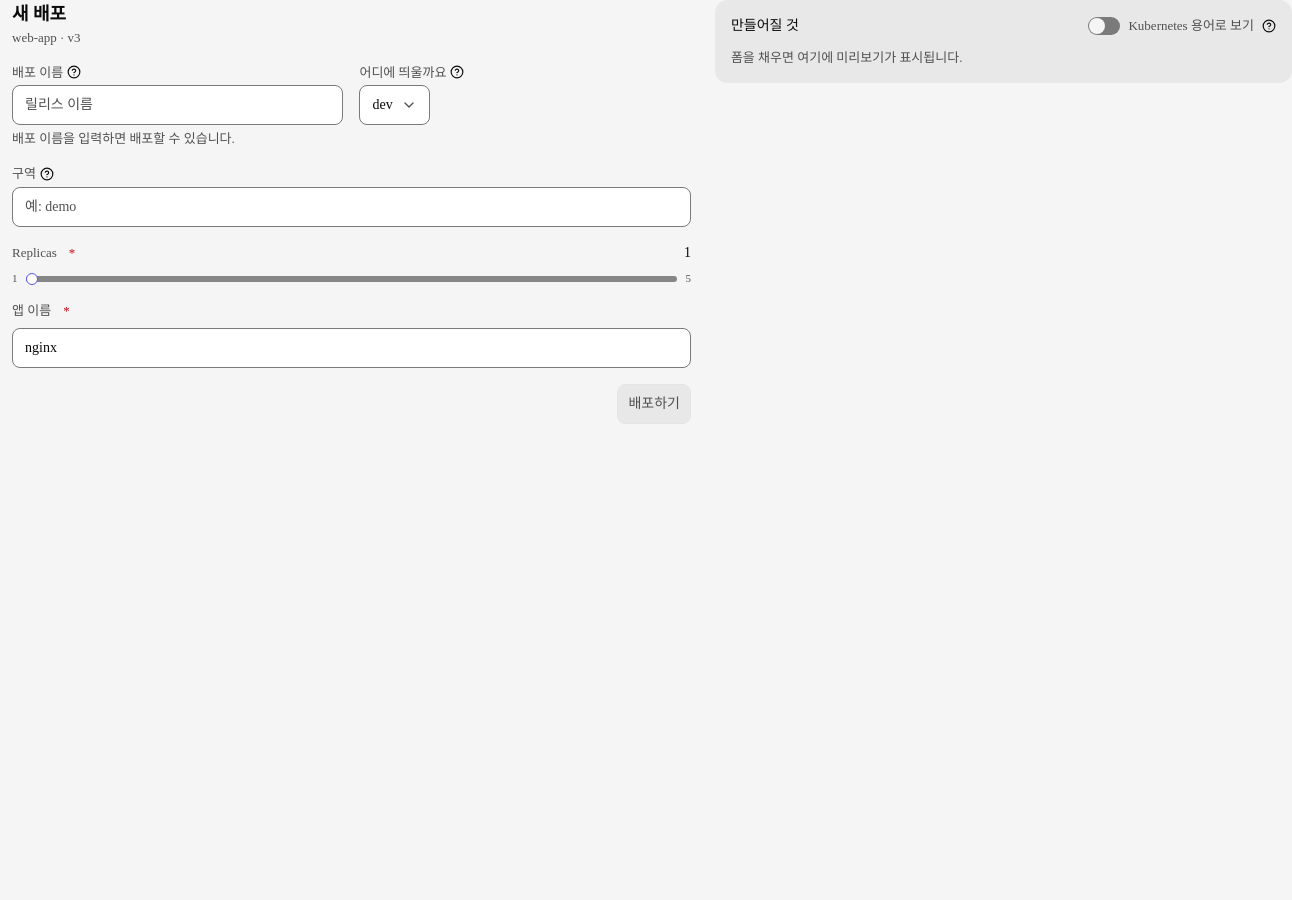
Test case: DeployClient › a cluster that refuses the deploy (#6) › unfolds the apiserver's words at detailed
Type "my-app" into the field labelled "배포 이름" at (178, 105), box x1=12 y1=85 x2=344 y2=125
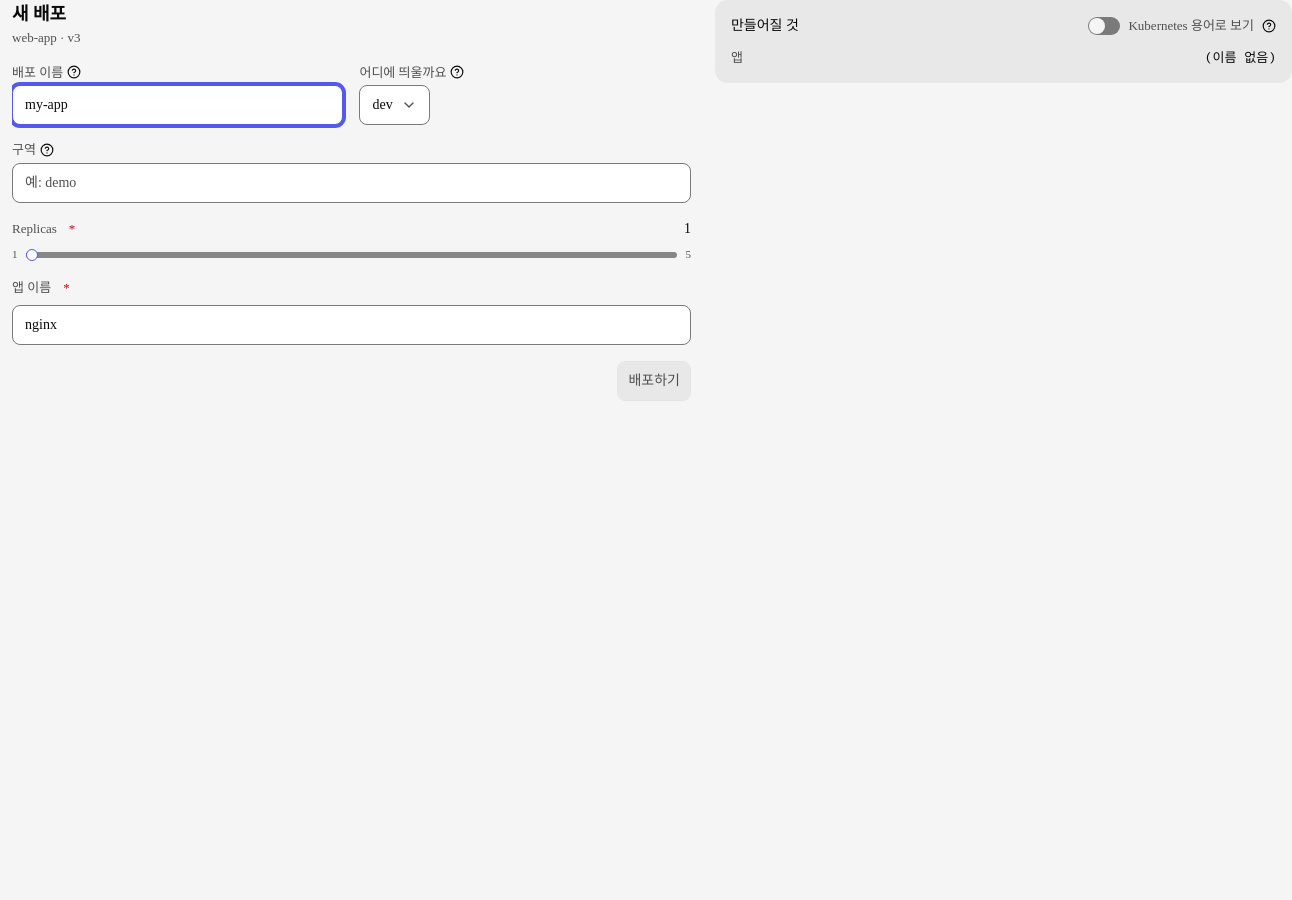
Type "default" into the field labelled "구역" at (351, 183), box x1=12 y1=163 x2=691 y2=203
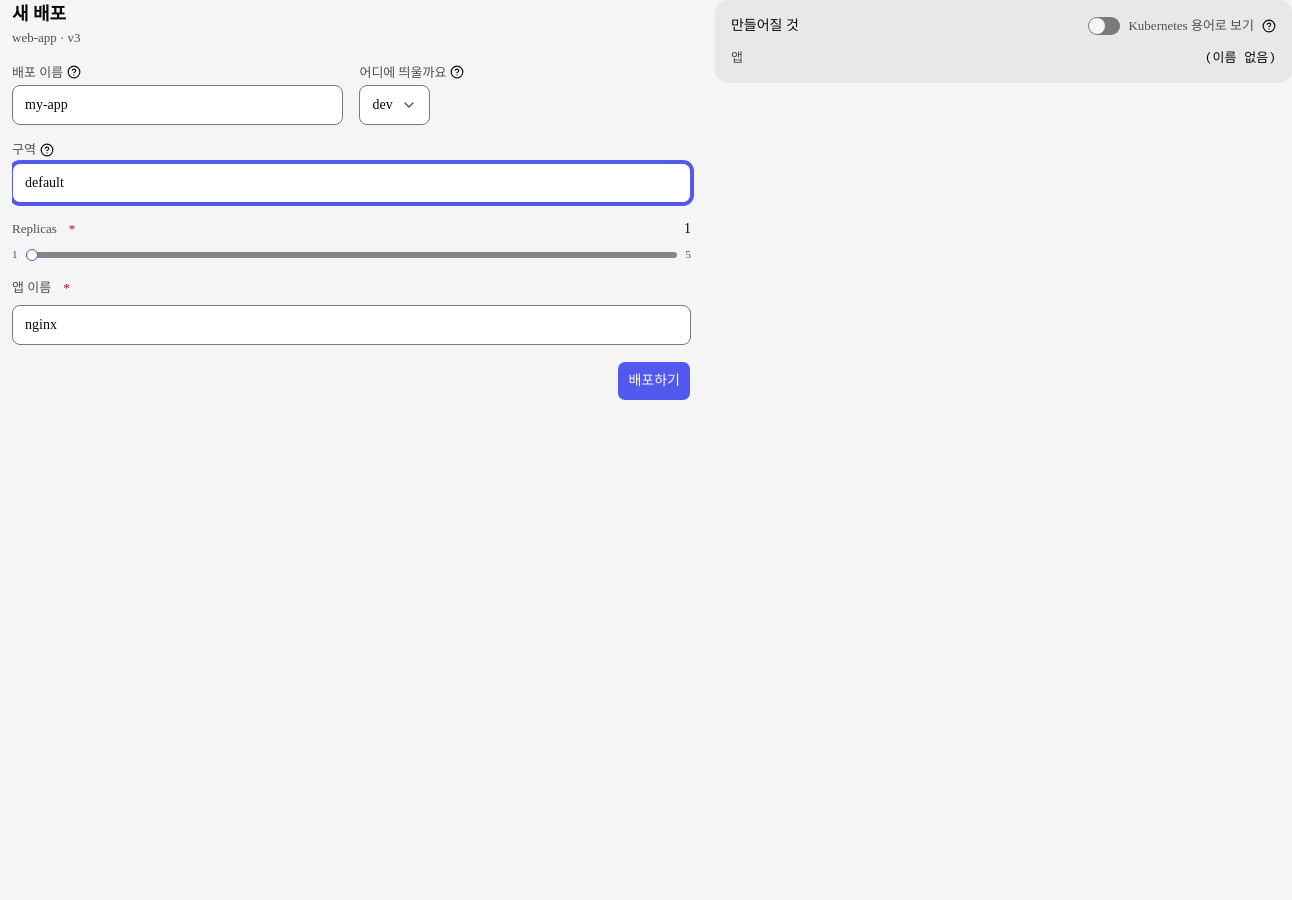
Expected: the button "배포하기" is enabled
Click the button "배포하기" at (654, 381), box x1=617 y1=361 x2=691 y2=401
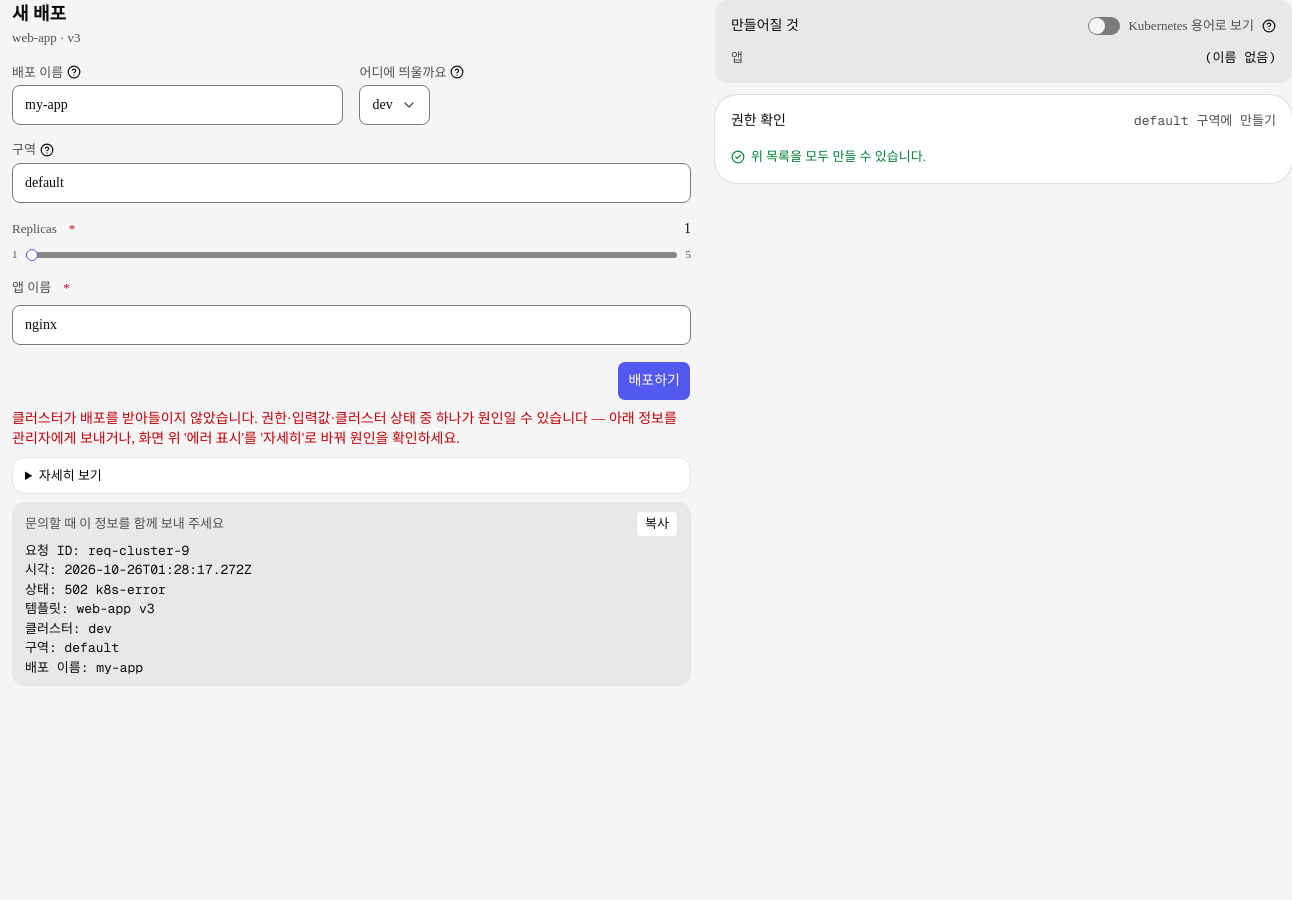
Expected: the message shows "502 k8s-error", x1=25 y1=542 x2=252 y2=676
